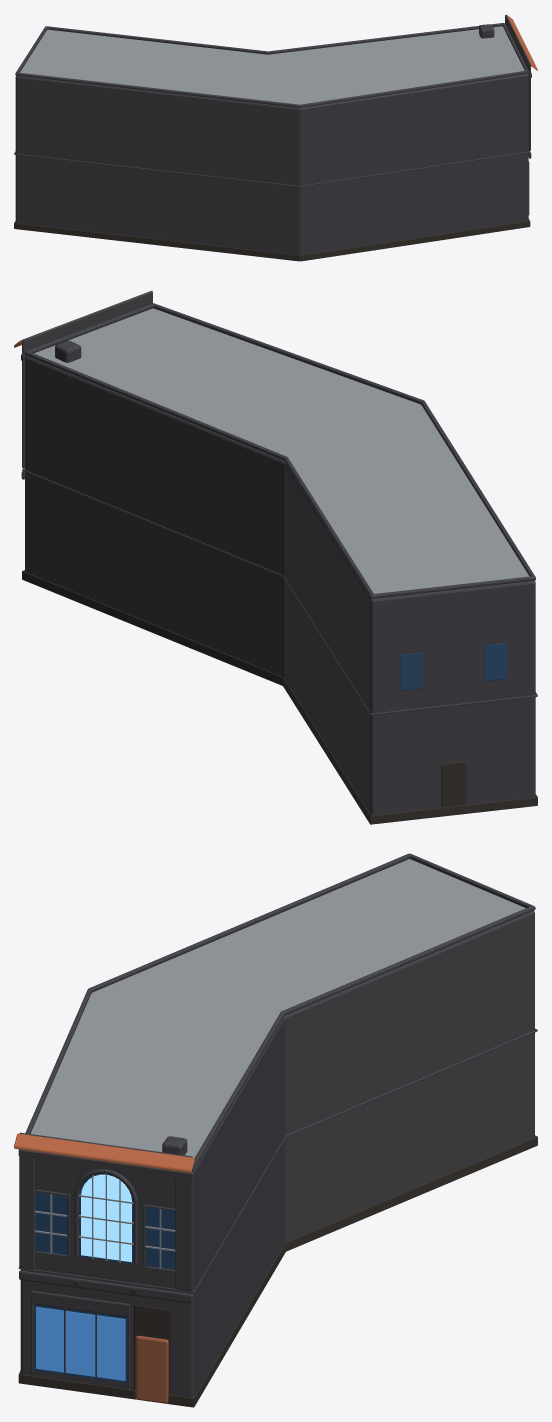
Rendered from 160-south-park.optimized.glb.
The picture shows the model from 3 angles, top to bottom: view 1: azimuth 30°, elevation 25°; view 2: azimuth 150°, elevation 25°; view 3: azimuth 270°, elevation 25°; orthographic projection. The views are drawn at different scales.
Parts seen in each view (by area): view 1: body, grp_Toy_roofd, grp_Toy_ink; view 2: body, grp_Toy_roofd, grp_Toy_ink, grp_Toy_glass; view 3: body, grp_Toy_roofd, grp_Toy_ink, shop_glow, grp_Toy_glass, arch_glow, eave_tile, door, grp_Toy_steel.
Part boxes in pixels (<box>): body: <box>15,26,528,255</box>; grp_Toy_roofd: <box>14,15,531,214</box>; grp_Toy_ink: <box>14,219,530,261</box>; body: <box>25,308,535,815</box>; grp_Toy_roofd: <box>21,291,537,715</box>; grp_Toy_ink: <box>22,570,537,824</box>; grp_Toy_glass: <box>400,643,506,690</box>; body: <box>20,859,534,1397</box>; grp_Toy_roofd: <box>18,853,537,1386</box>; grp_Toy_ink: <box>18,1135,537,1407</box>; shop_glow: <box>36,1307,125,1380</box>; grp_Toy_glass: <box>34,1173,175,1383</box>; arch_glow: <box>81,1174,131,1262</box>; eave_tile: <box>14,1133,194,1172</box>; door: <box>135,1335,168,1403</box>; grp_Toy_steel: <box>35,1174,175,1268</box>.
Bounding box in the file's own units: 25.8 × 9.4 × 17.77.
